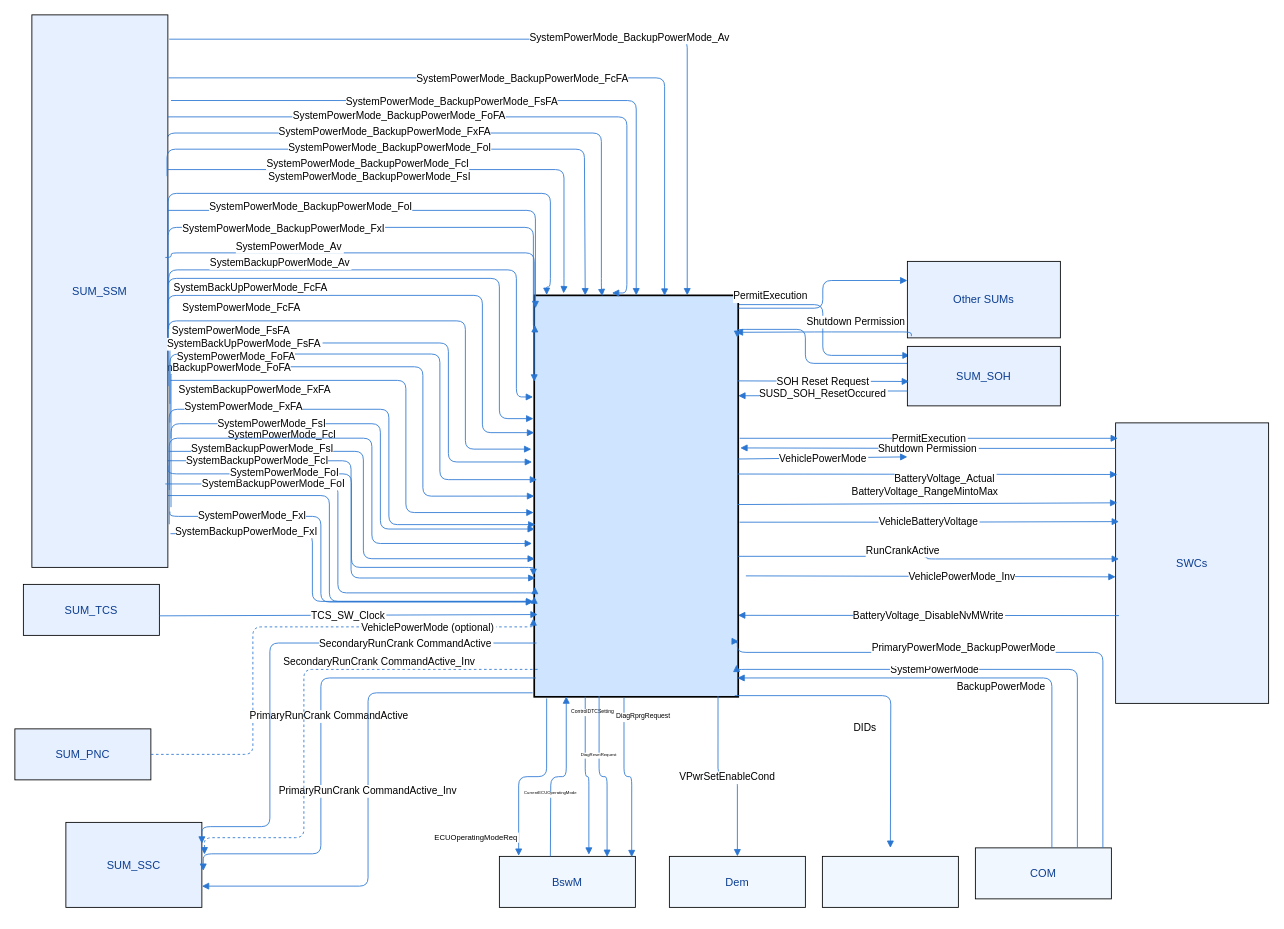
Image size: 1284x929. Some labels were removed from this diagram. The centre of each missing label's shape, as x and y in pixels:
"Dcm" goes at point 890,881.
"SUM_SUSD" goes at point 636,495.
